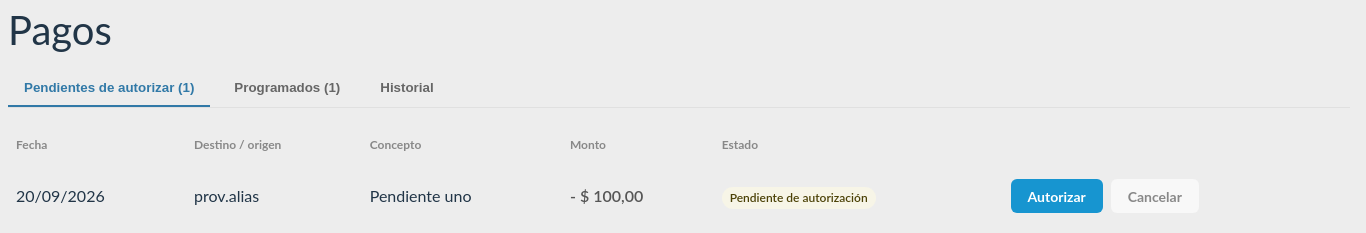
Payments page › shows credits in the history
Click the tab "Historial" at (407, 88), box left=364, top=70, right=450, bottom=107
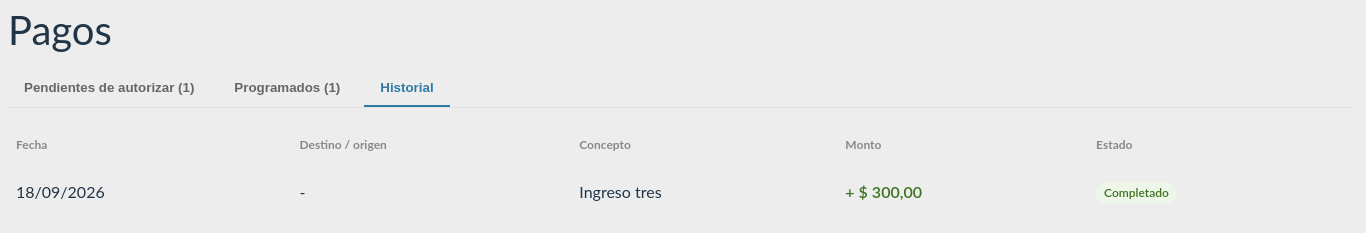
Check: the text "Ingreso tres" is shown, box left=571, top=166, right=837, bottom=216
Check: the text "+ $ 300,00" is shown, box left=837, top=166, right=1088, bottom=216
Check: the text "Completado" is shown, box left=1096, top=182, right=1177, bottom=204
